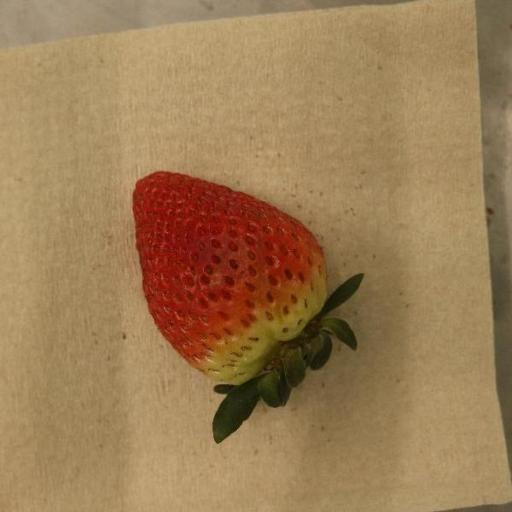Strawberry: (133, 172, 365, 445)
